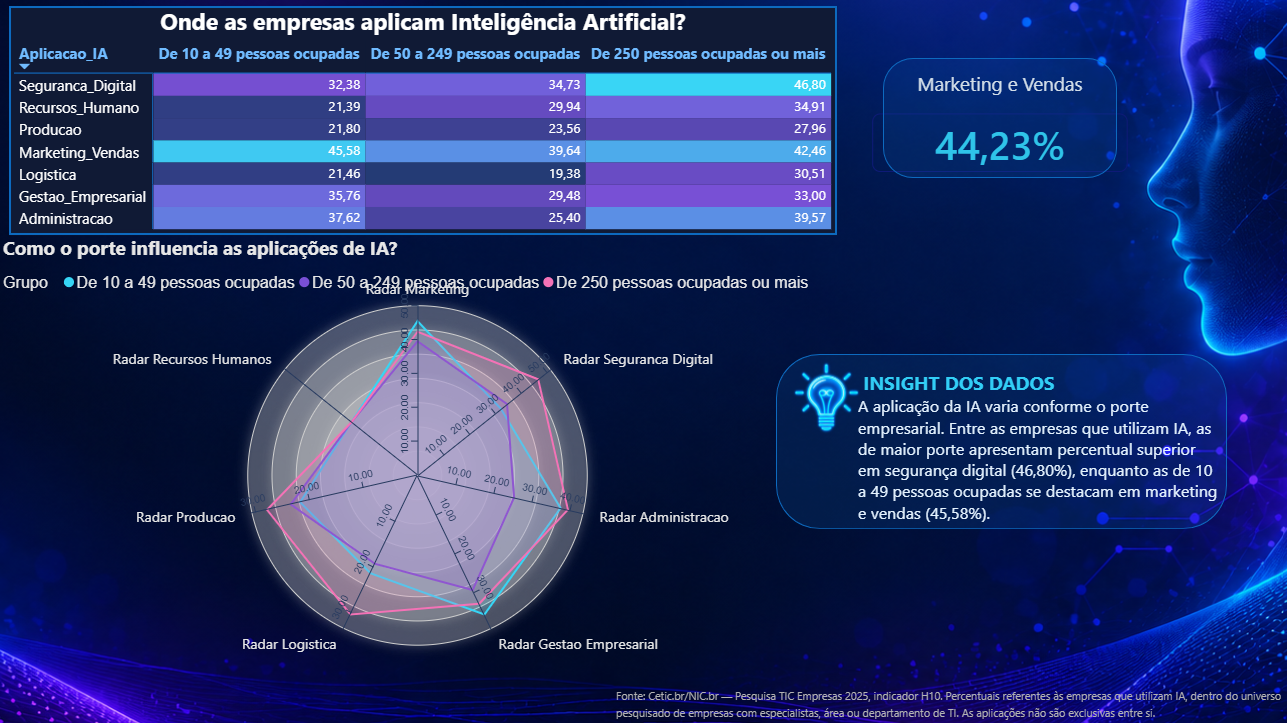

The page's visual inventory and layout, read from the dashboard file:
{"tool":"powerbi","page":{"name":"Aplicações de IA","canvas":[1280,720],"ordinal":1},"visuals":[{"type":"pivotTable","title":"Onde as empresas aplicam Inteligência Artificial?","fields":{"Rows":["H10.Aplicacao_IA"],"Columns":["H10.Grupo"],"Values":["Avg(H10.Percentual)"]},"box":[10.9,6.9,819.8,226.7],"z":0},{"type":"cardVisual","title":"Marketing e Vendas ","fields":{"Data":["H10.Maior Aplicacao KPI"]},"box":[848.5,71.3,287.1,117.8],"z":1000},{"type":"radarChart5F59D098BB90499F8C33EBEBCEE4FEBF","title":"Como o porte influencia as aplicações de IA?","fields":{"category":["H10.Grupo"],"measure":["H10.Radar Marketing","H10.Radar Seguranca Digital","H10.Radar Administracao","H10.Radar Gestao Empresarial","H10.Radar Logistica","H10.Radar Producao","H10.Radar Recursos Humanos"]},"box":[0,233.7,830.7,486.1],"z":2000},{"type":"textbox","box":[846.5,362.4,370.3,162.4],"z":3000},{"type":"image","box":[780.2,295,80.2,198],"z":4000},{"type":"shape","box":[770.3,351.5,446.5,173.3],"z":5000},{"type":"shape","box":[876.2,58.4,231.7,118.8],"z":6000},{"type":"shape","box":[10.9,8.9,819.8,224.8],"z":7000},{"type":"textbox","box":[606.9,675.2,673.3,44.6],"z":8000}]}

Visuals, with their boxes in screenshot pixels (x1, y1, x2, y2), scaled from the page's 1280x720 canvas onto the 1287x723 screenshot:
"Onde as empresas aplicam Inteligência Artificial?" pivotTable: bbox=[11, 7, 835, 235]
"Marketing e Vendas " cardVisual: bbox=[853, 72, 1142, 190]
"Como o porte influencia as aplicações de IA?" radarChart5F59D098BB90499F8C33EBEBCEE4FEBF: bbox=[0, 235, 835, 722]
textbox: bbox=[851, 364, 1223, 527]
image: bbox=[784, 296, 865, 495]
shape: bbox=[775, 353, 1223, 527]
shape: bbox=[881, 59, 1114, 178]
shape: bbox=[11, 9, 835, 235]
textbox: bbox=[610, 678, 1286, 722]
